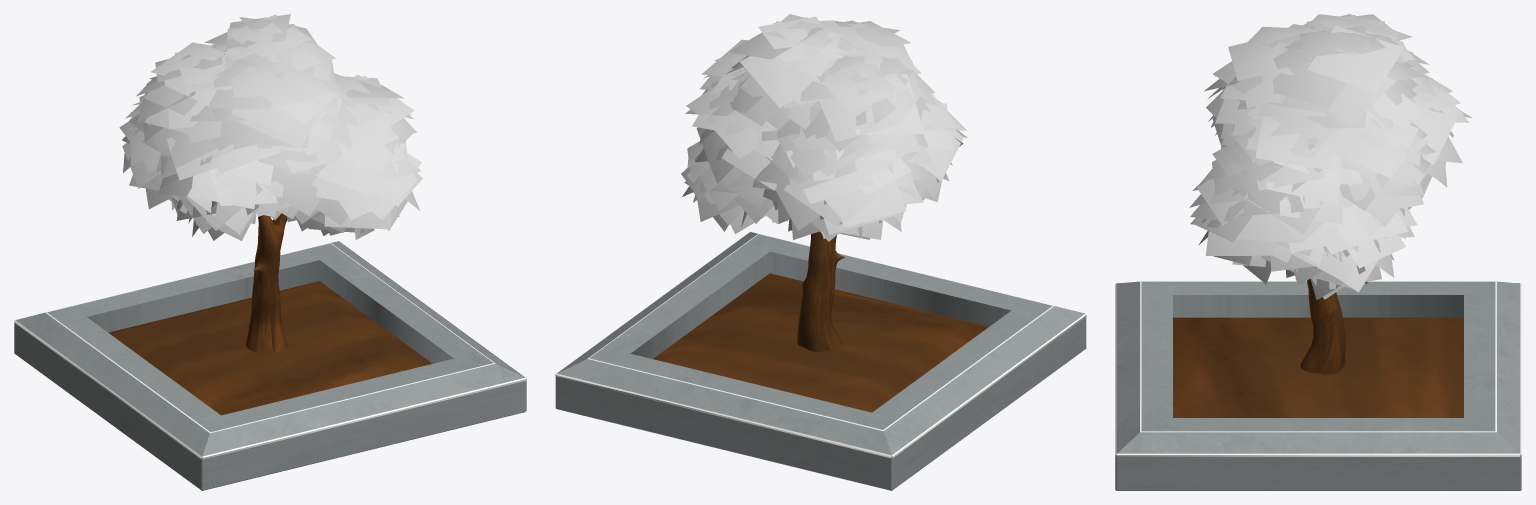
The model's file is Ptrees.fbx.
The picture shows the model from 3 angles, left to right: view 1: azimuth 30°, elevation 25°; view 2: azimuth 150°, elevation 25°; view 3: azimuth 270°, elevation 25°; orthographic projection. The views are drawn at different scales.
Parts seen in each view (by area): view 1: SM_Trunk02_Leaves; view 2: SM_Trunk02_Leaves; view 3: SM_Trunk02_Leaves.
Part boxes in pixels (x1,y1,x2,y2): SM_Trunk02_Leaves: (14,14,526,490); SM_Trunk02_Leaves: (555,14,1086,490); SM_Trunk02_Leaves: (1115,14,1521,490).
Size of the model in its own units: 400 by 407 by 400.
4 materials, 2 textured.
